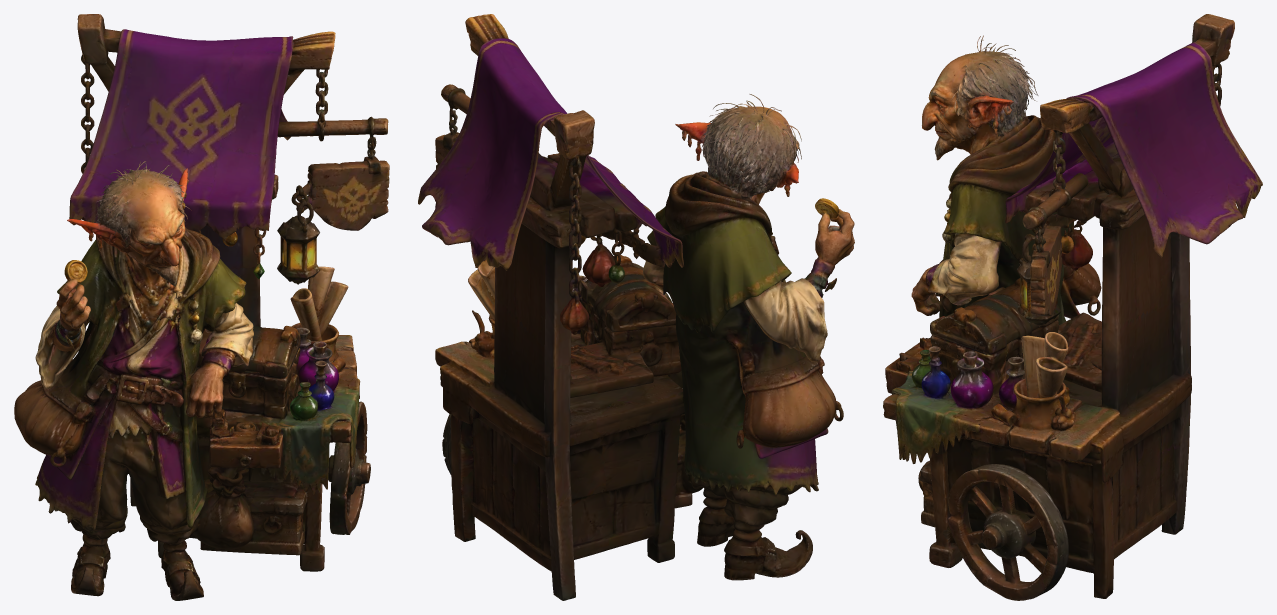
Rendered from MThe_Arcane_Cart_Merch.compressed.glb.
3 renders of one model, left to right at view 1: azimuth 30°, elevation 25°; view 2: azimuth 150°, elevation 25°; view 3: azimuth 270°, elevation 25°, orthographic. The views are drawn at different scales.
Parts seen in each view (by area): view 1: mesh_node; view 2: mesh_node; view 3: mesh_node.
Part boxes in pixels (x1=…): mesh_node: x1=14, y1=14, x2=389, y2=600; mesh_node: x1=418, y1=14, x2=854, y2=600; mesh_node: x1=883, y1=14, x2=1262, y2=600.
Size of the model in its own units: 1.53 by 1.9 by 1.32.
1 material, 1 textured.
